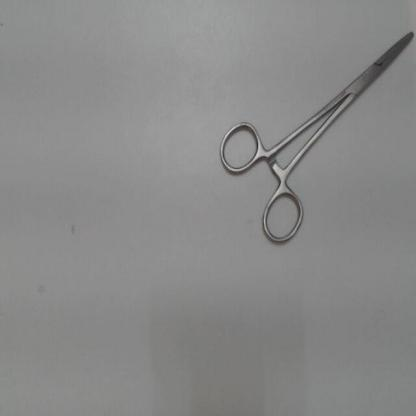Mayo Needle Holder: (213, 19, 414, 256)
